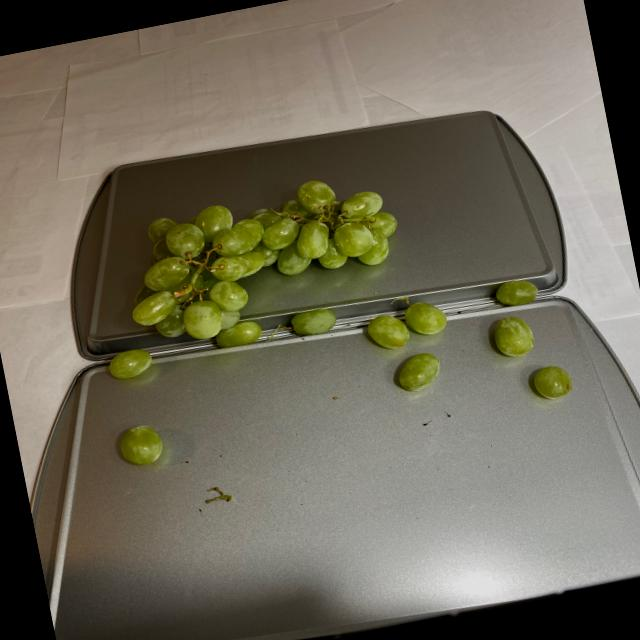grapes: (85, 144, 574, 482)
